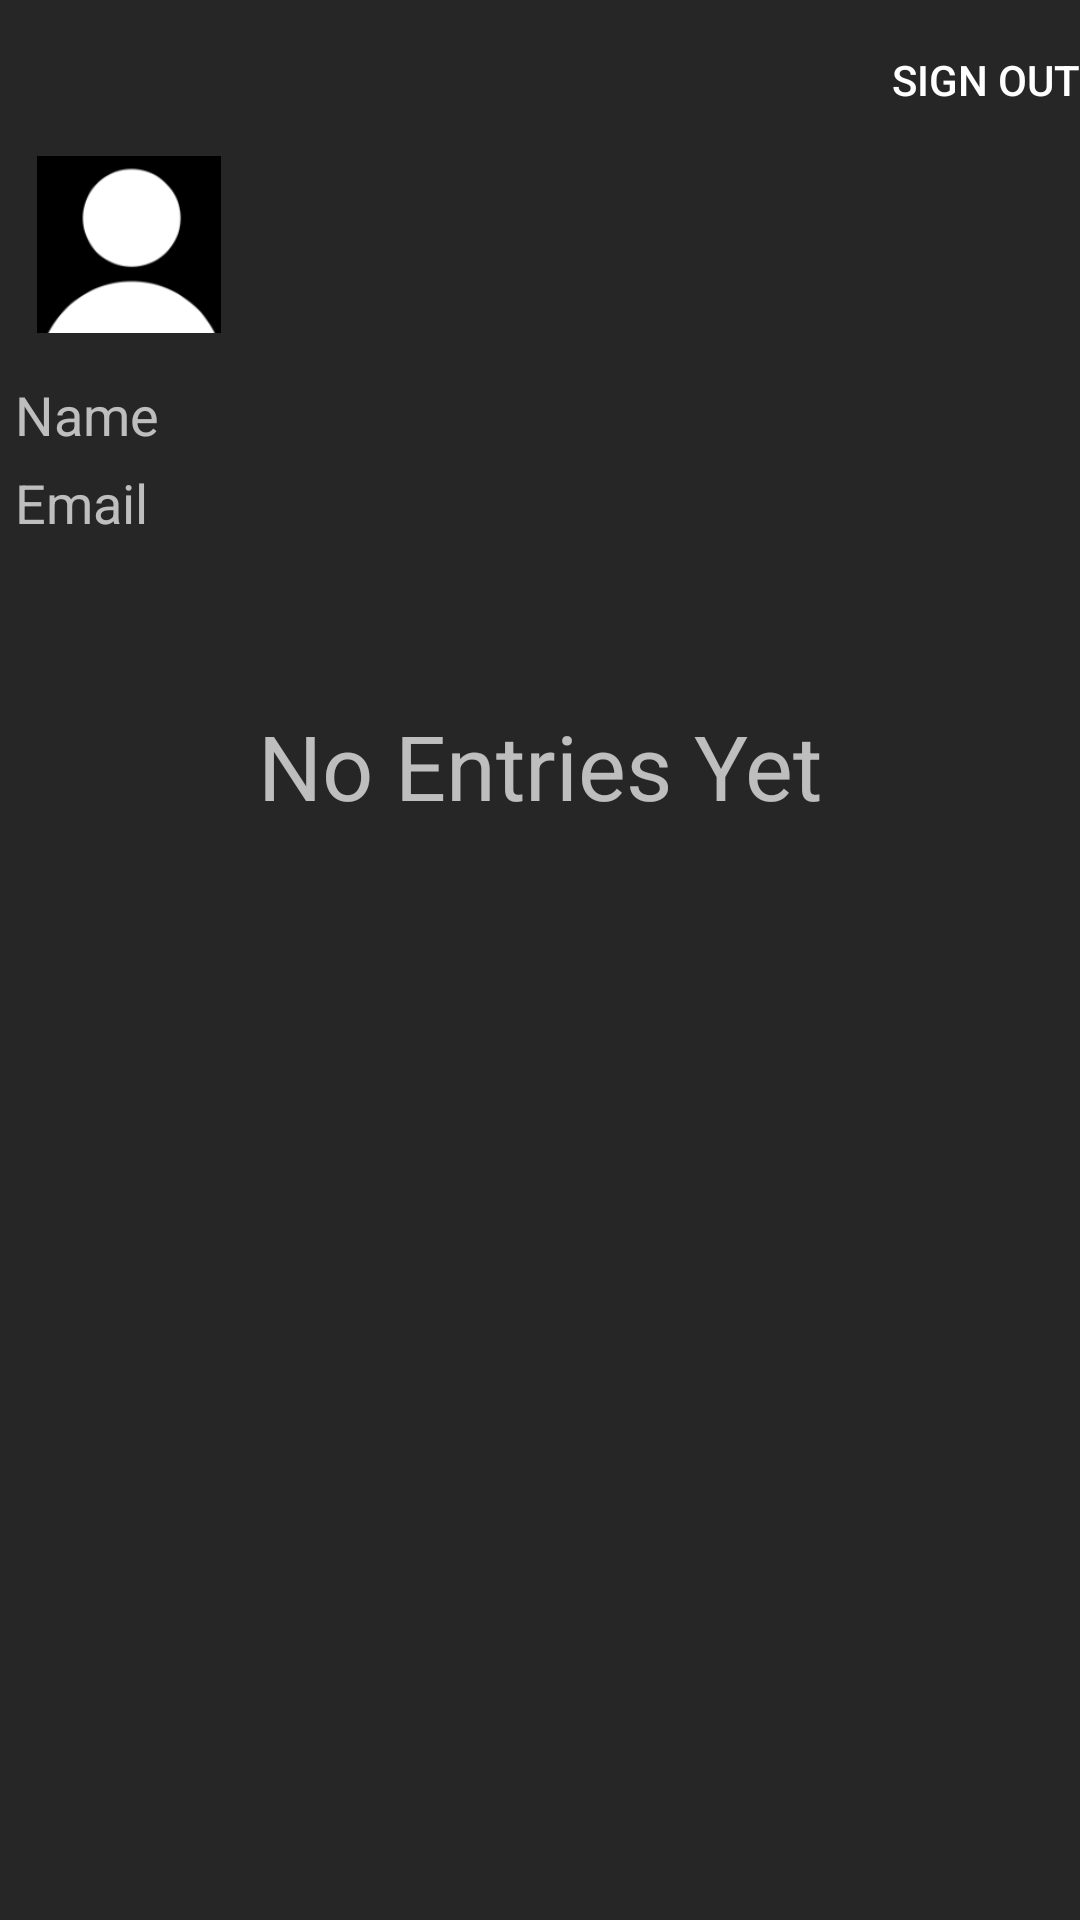

Icons on this 1080 × 1920 Android screen, each with its box as Rect(x1, y1, x2, y2):
useruser: Rect(37, 156, 221, 333)
